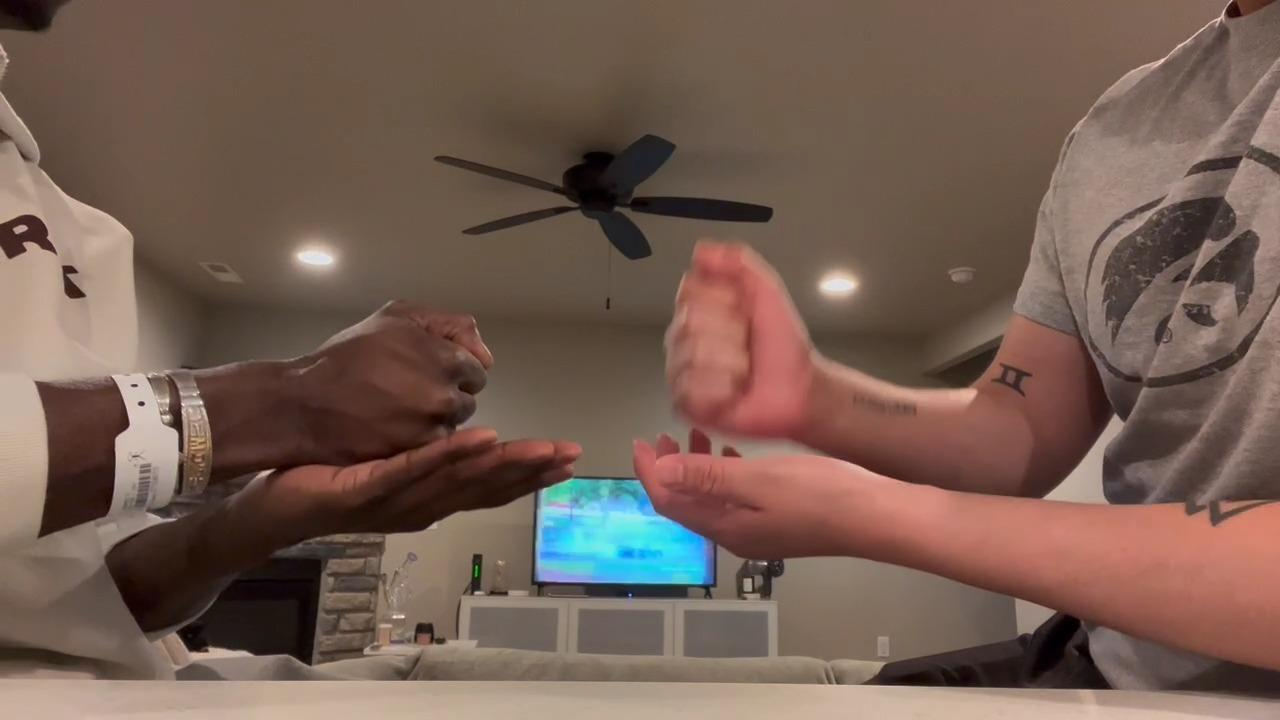Rock: (295, 292, 493, 460), (662, 238, 817, 443)
